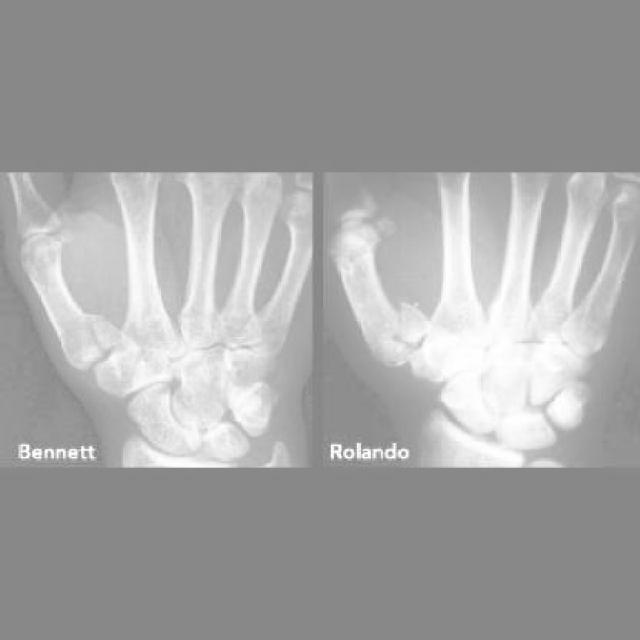Fracture: (389, 292, 429, 348), (77, 308, 120, 357)
